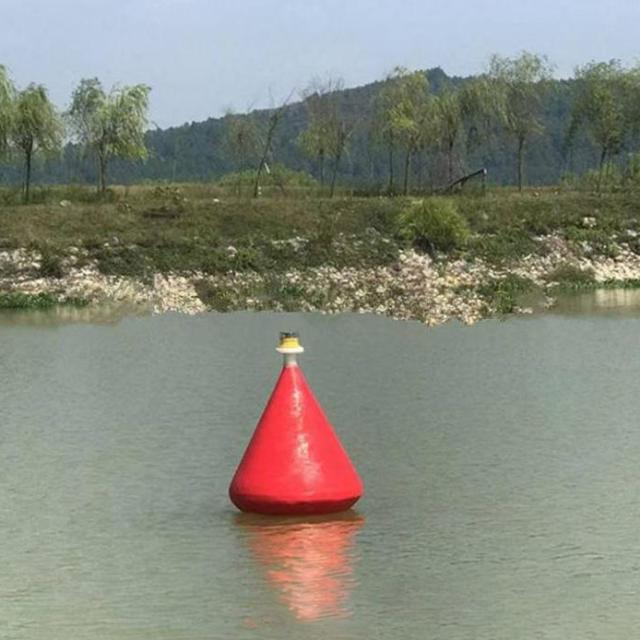buoy: (231, 321, 366, 516)
